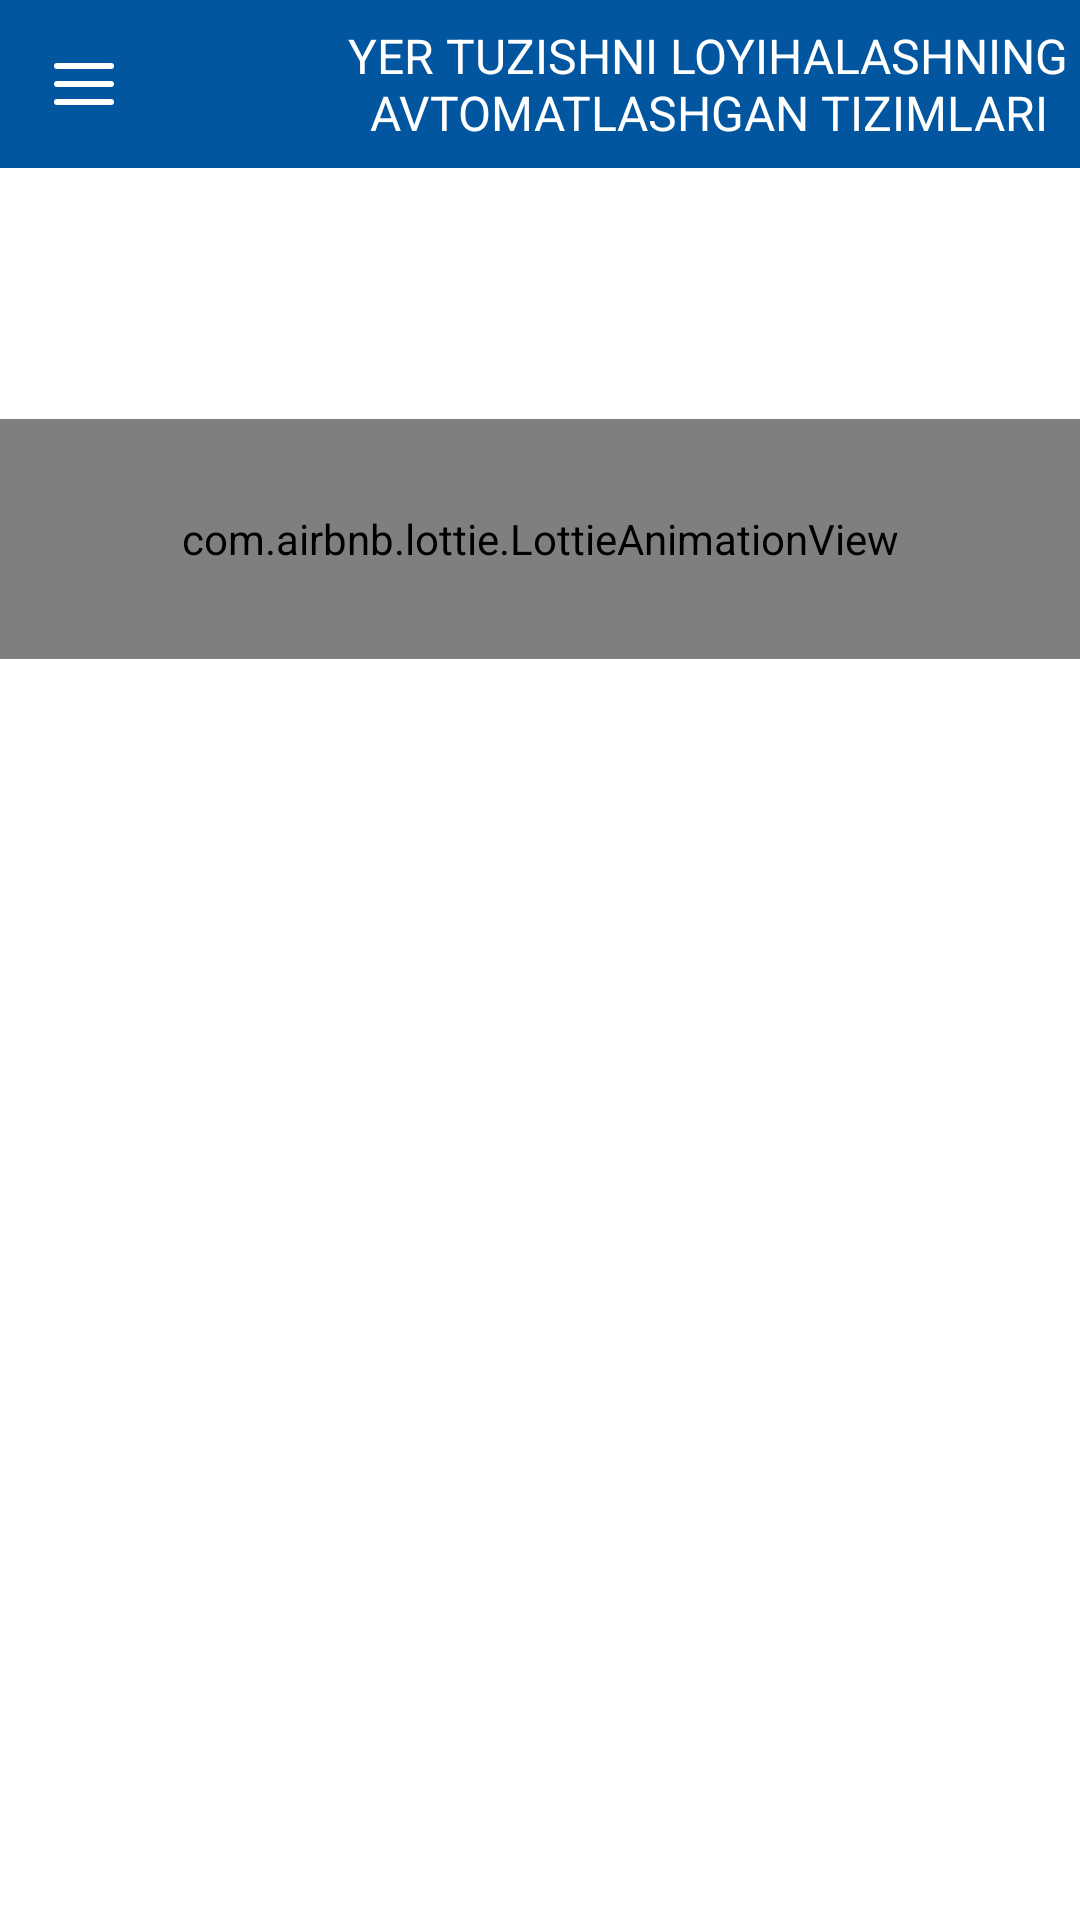

Icon bounding boxes for this 1080px x 1920px phone screenshot, format bbox=[x1, y1, x2, y2]:
menu: bbox=[54, 63, 114, 105]
